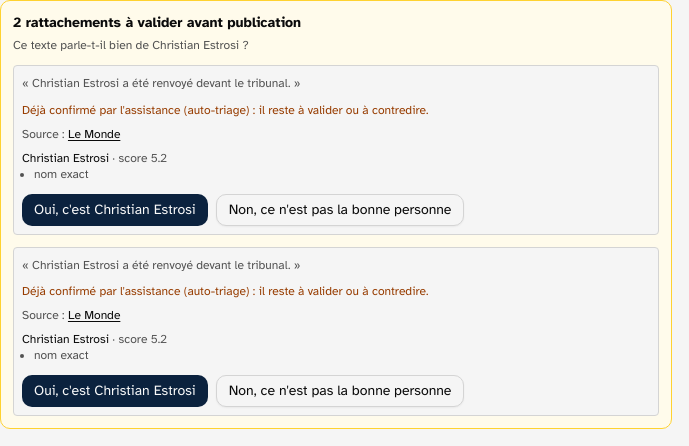
Scenario: MatchingResolutionPanel › ne signale pas la fin s'il reste une décision à trancher
Click the 1st button "Oui, c'est Christian Estrosi" at (115, 210), box 22,194 -> 208,226
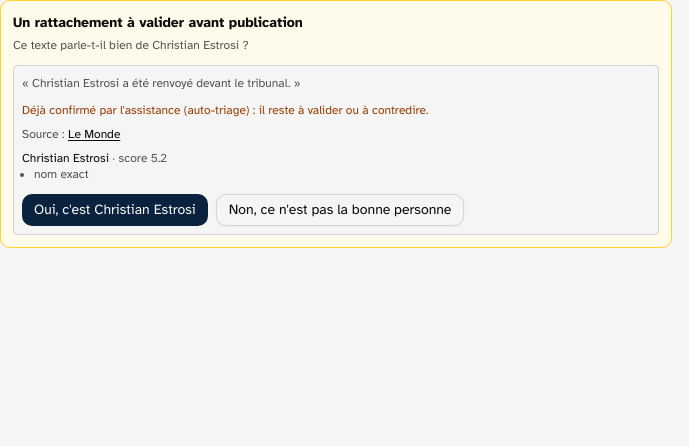
Result: the number of buttons "Oui, c'est Christian Estrosi" is 1 at 22,194 -> 208,226
